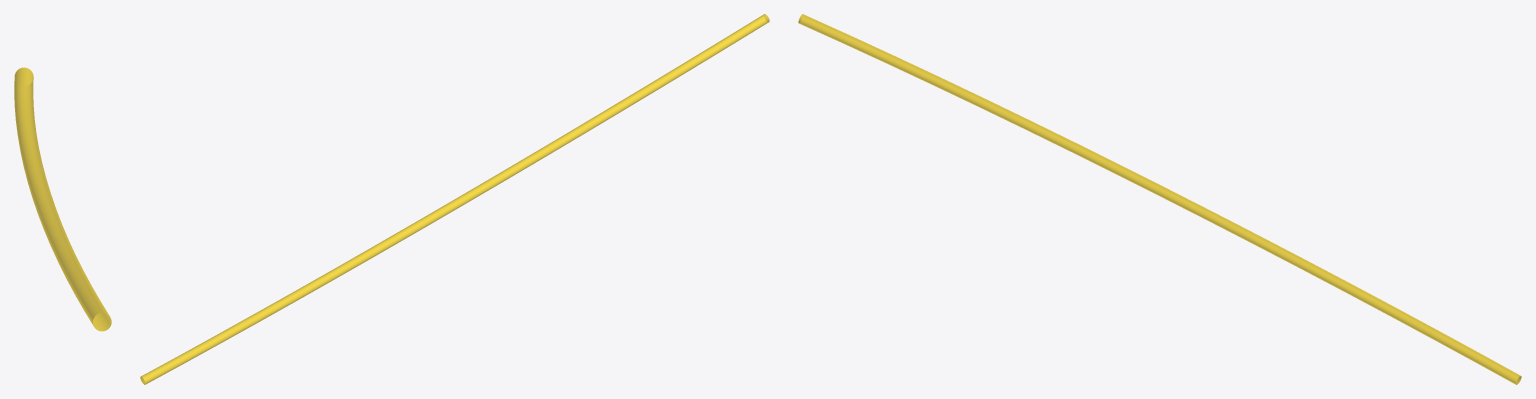
The model's file is Event_17758602_track_180.fbx.
The picture shows the model from 3 angles, left to right: view 1: azimuth 90°, elevation 25°; view 2: azimuth 210°, elevation 25°; view 3: azimuth 330°, elevation 25°; orthographic projection. The views are drawn at different scales.
Visible parts, largest first — view 1: Model; view 2: Model; view 3: Model.
Boxes of the visible parts, left/top/right/bottom form: Model: left=14, top=67, right=111, bottom=331; Model: left=140, top=14, right=769, bottom=384; Model: left=798, top=14, right=1521, bottom=384.
Size of the model in its own units: 3.14 by 0.9272 by 0.2052.
